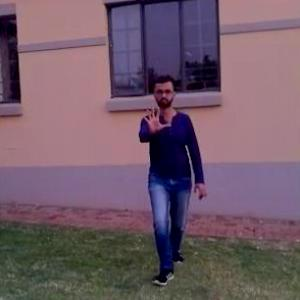follow_hand: (137, 99, 172, 137)
